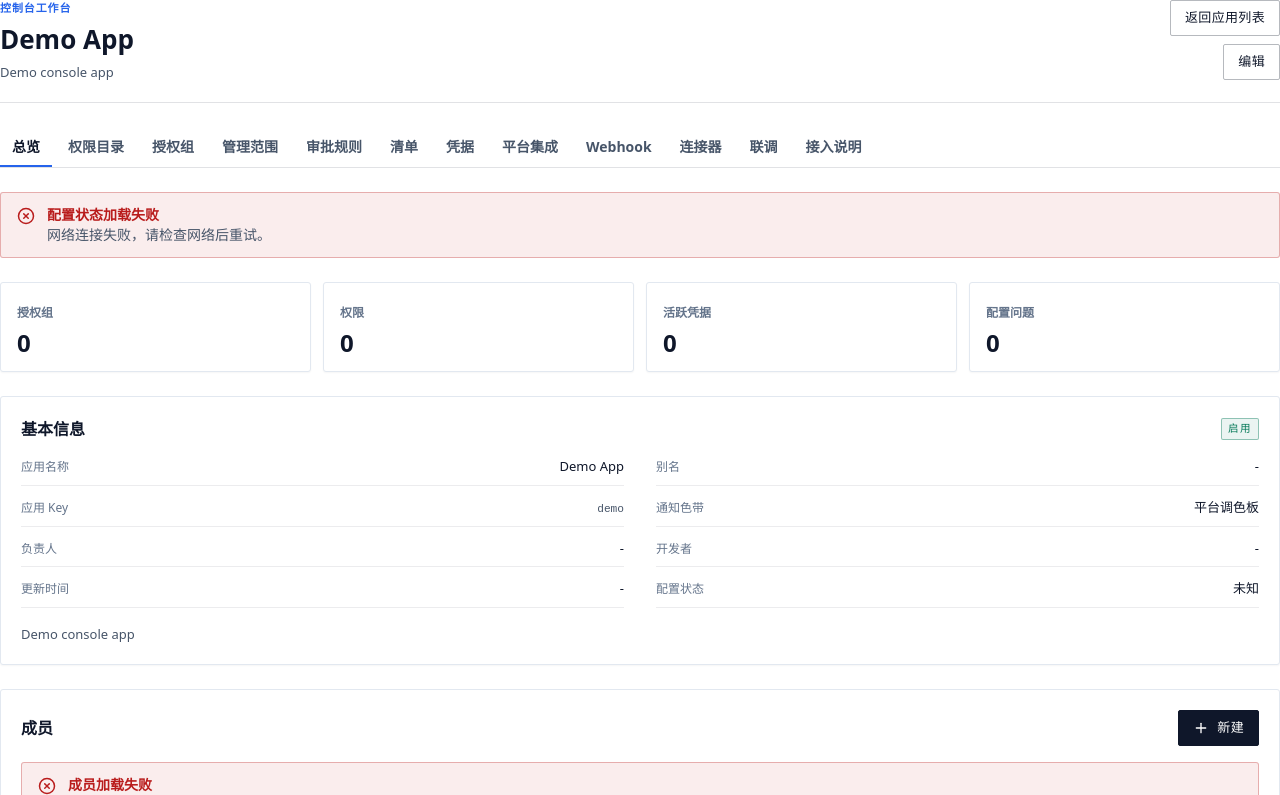
Test: ConsoleAppWorkspace › 管理范围 tab 读取并保存应用默认 MANAGED_USERS 策略
Click the tab "管理范围" at (250, 147), box x1=210 y1=127 x2=290 y2=167
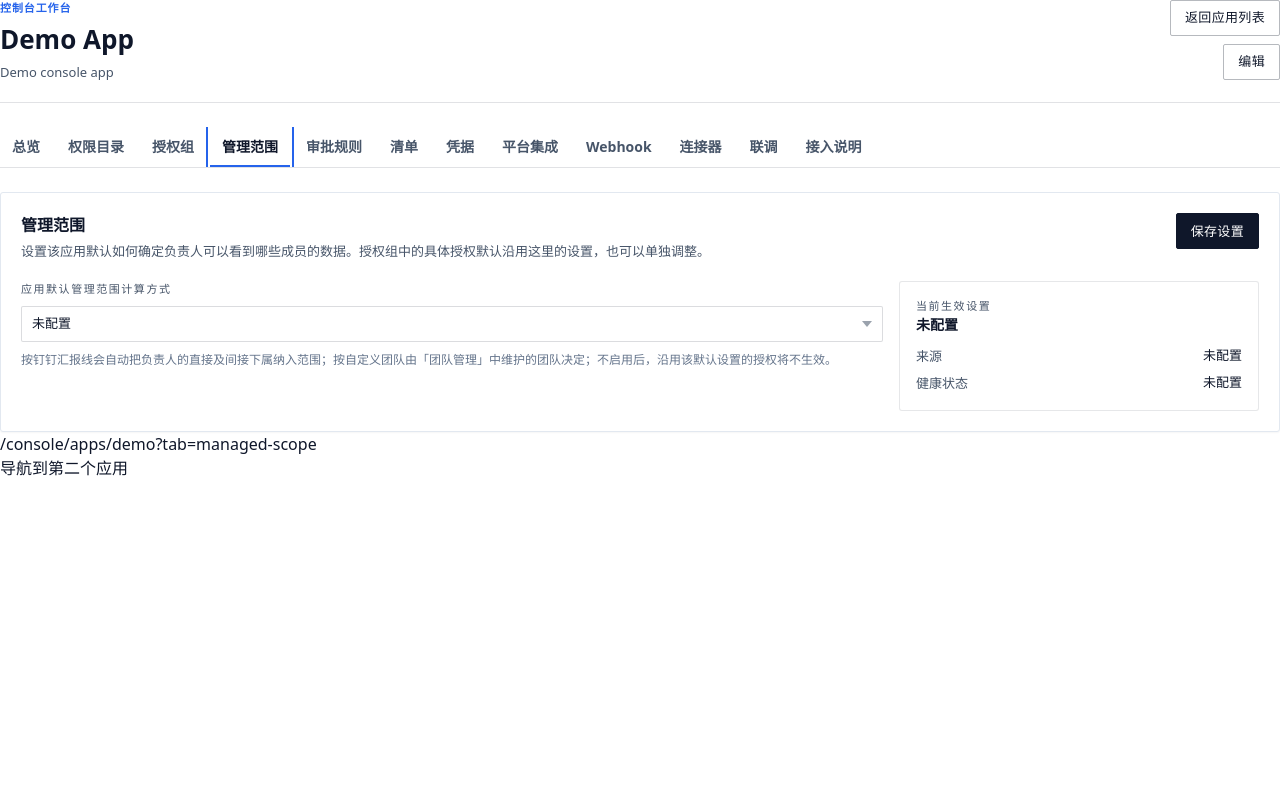
Now the heading "管理范围" is shown, box x1=21 y1=214 x2=85 y2=236
Select "按钉钉汇报线（自动）" in the dropdown labelled "应用默认管理范围计算方式" at (452, 324), box x1=21 y1=306 x2=883 y2=342
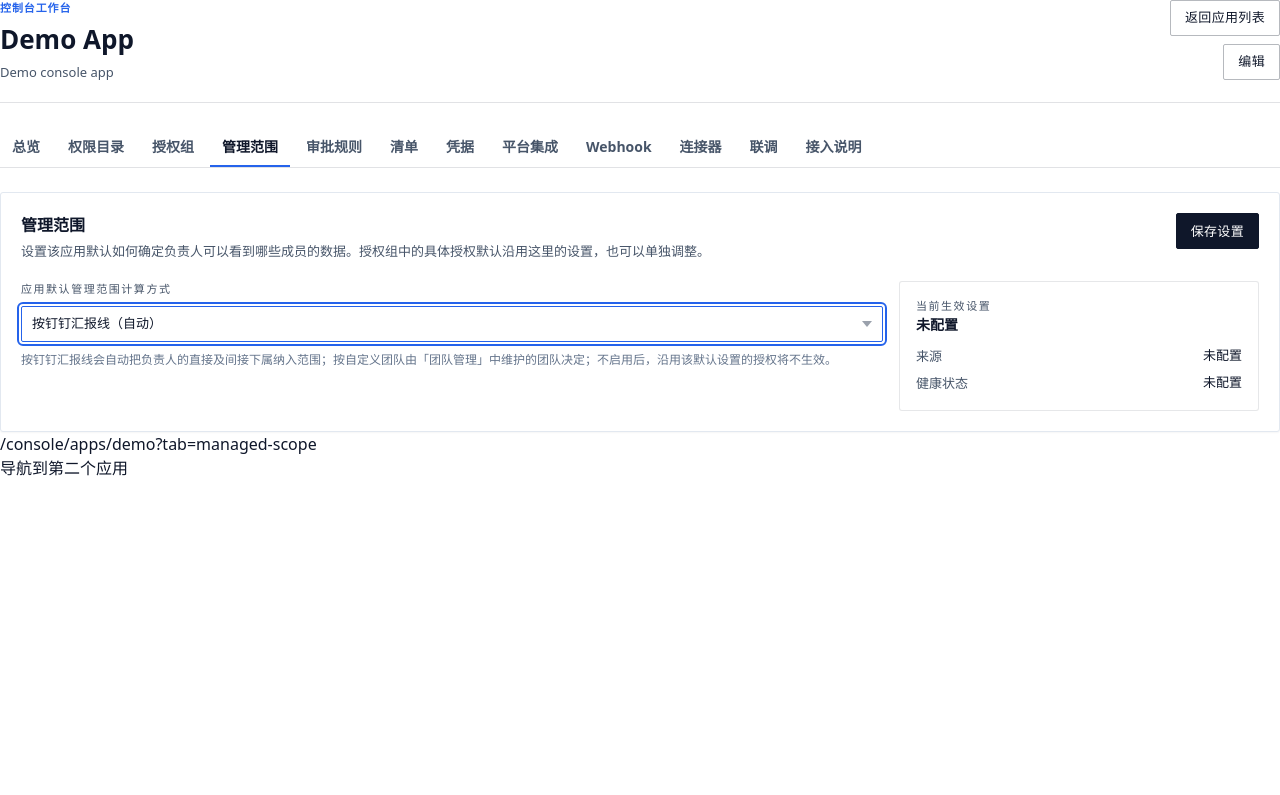
Click the button "保存设置" at (1217, 231), box x1=1176 y1=213 x2=1259 y2=249
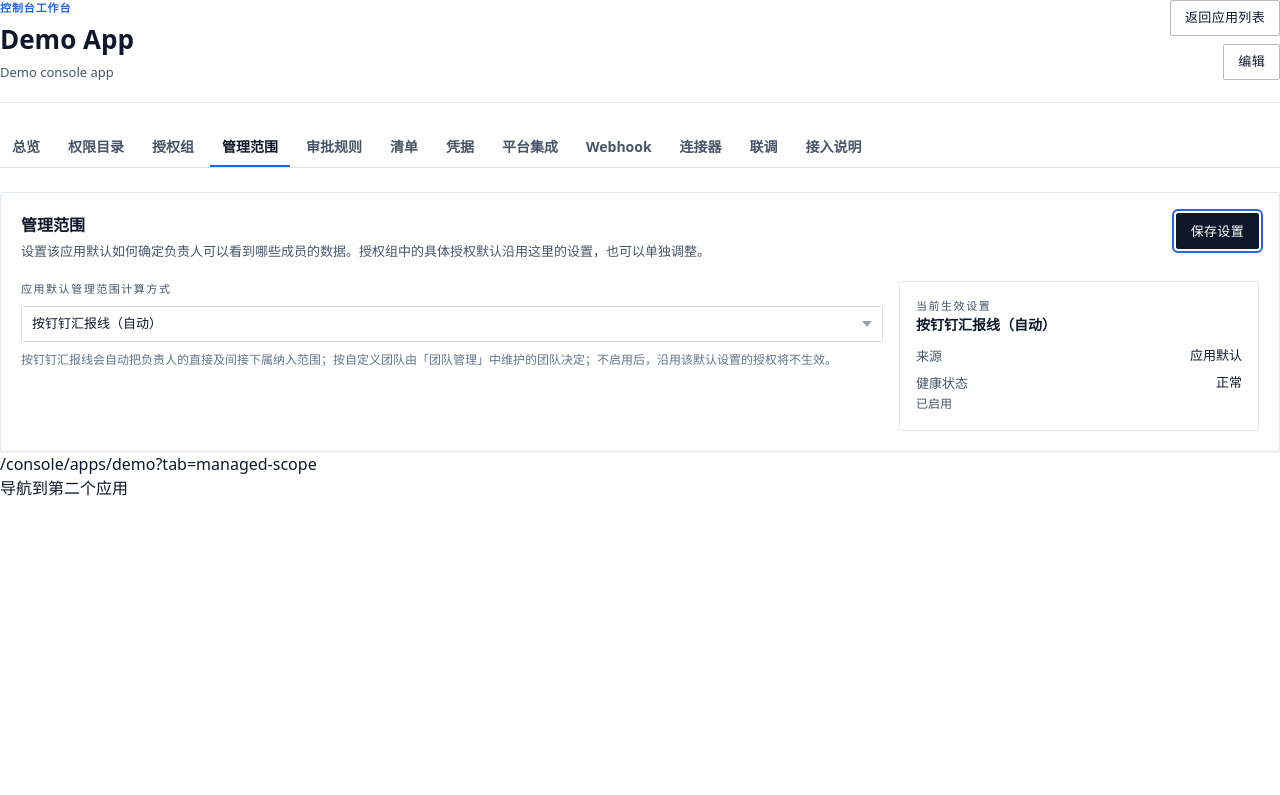
Now the text "已启用" is shown, box x1=916 y1=395 x2=952 y2=412
